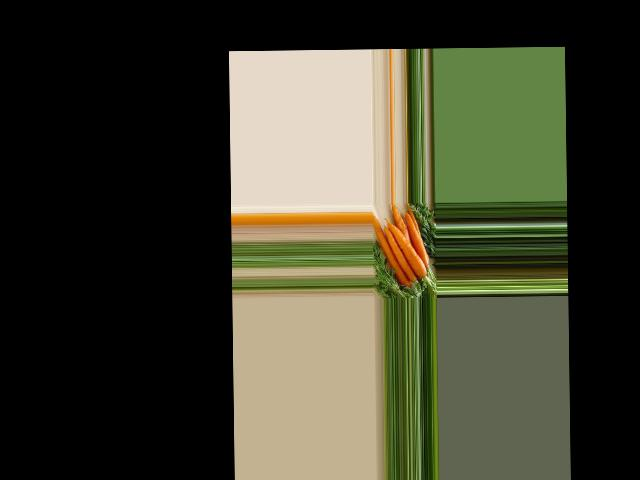carrot: (371, 213, 411, 291)
